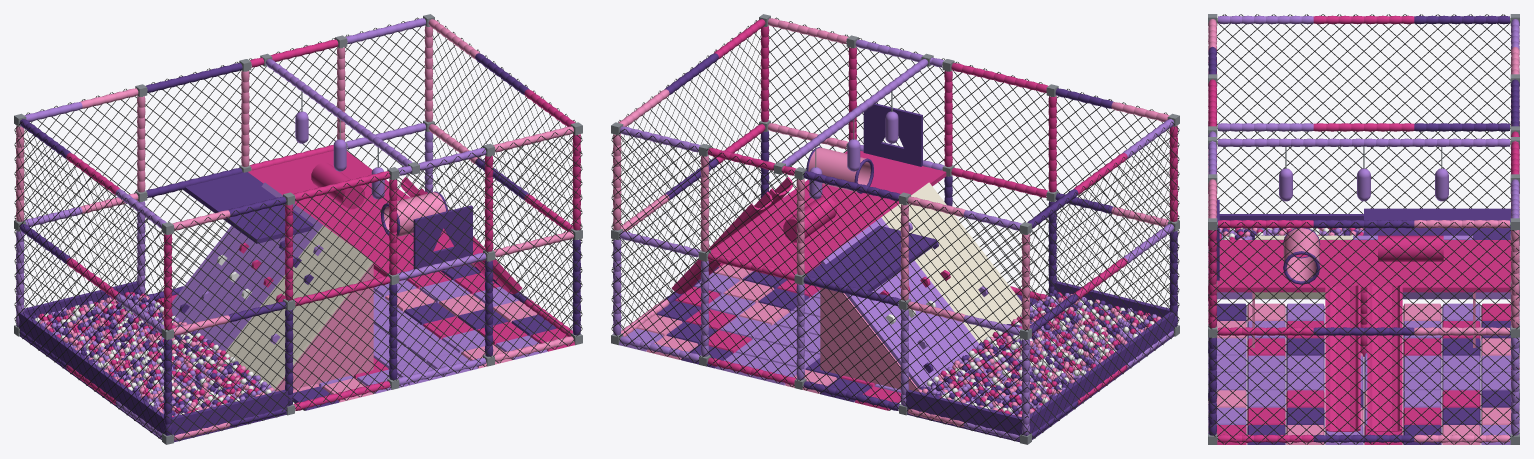
The model's file is mini.glb.
3 views of the same model, side by side, from view 1: azimuth 30°, elevation 25°; view 2: azimuth 150°, elevation 25°; view 3: azimuth 270°, elevation 25° (orthographic). The views are drawn at different scales.
Parts seen in each view (by area): view 1: rede, isotubo, plataforma, piso, bolinhas, acolchoado, metal, plastico; view 2: rede, isotubo, plataforma, piso, bolinhas, acolchoado, metal, plastico; view 3: piso, rede, isotubo, plataforma, plastico, acolchoado, metal, bolinhas.
Part boxes in pixels (x1,y1,x2,y2): rede: (14, 17, 582, 441); isotubo: (16, 18, 580, 440); plataforma: (171, 151, 484, 391); piso: (156, 264, 574, 410); bolinhas: (32, 289, 276, 416); acolchoado: (16, 111, 447, 442); metal: (14, 14, 582, 444); plastico: (179, 177, 522, 344); rede: (611, 17, 1179, 441); isotubo: (613, 18, 1177, 440); plataforma: (709, 103, 1022, 391); piso: (619, 264, 1037, 410); bolinhas: (917, 290, 1161, 416); acolchoado: (783, 111, 1177, 442); metal: (611, 14, 1179, 444); plastico: (671, 177, 988, 373); piso: (1208, 303, 1519, 444); rede: (1208, 14, 1519, 444); isotubo: (1208, 15, 1519, 443); plataforma: (1216, 199, 1511, 347); plastico: (1325, 284, 1402, 431); acolchoado: (1217, 168, 1510, 299); metal: (1208, 14, 1519, 444); bolinhas: (1219, 228, 1363, 239).
Bounding box in the file's own units: 0.6 × 0.3 × 0.38.
8 materials, 7 textured.
